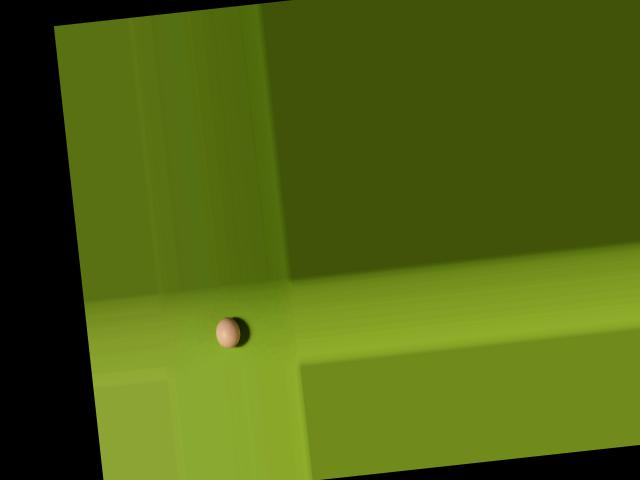egg: (215, 314, 242, 349)
